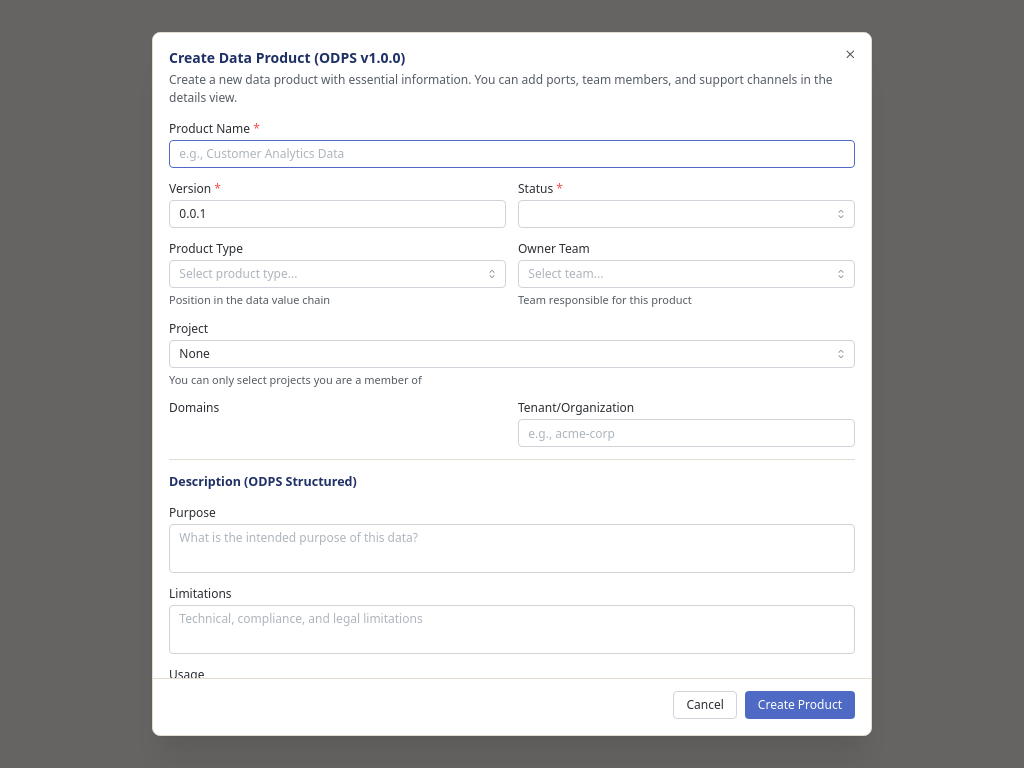
Test: data product create dialog on the kit Dialog › data product create dialog asks before discarding a typed name, on the first close
The width and height of the screenshot is (1024, 768).
In the field labelled "Product Name *": (512, 154) [169, 140, 855, 168], type "Orders"
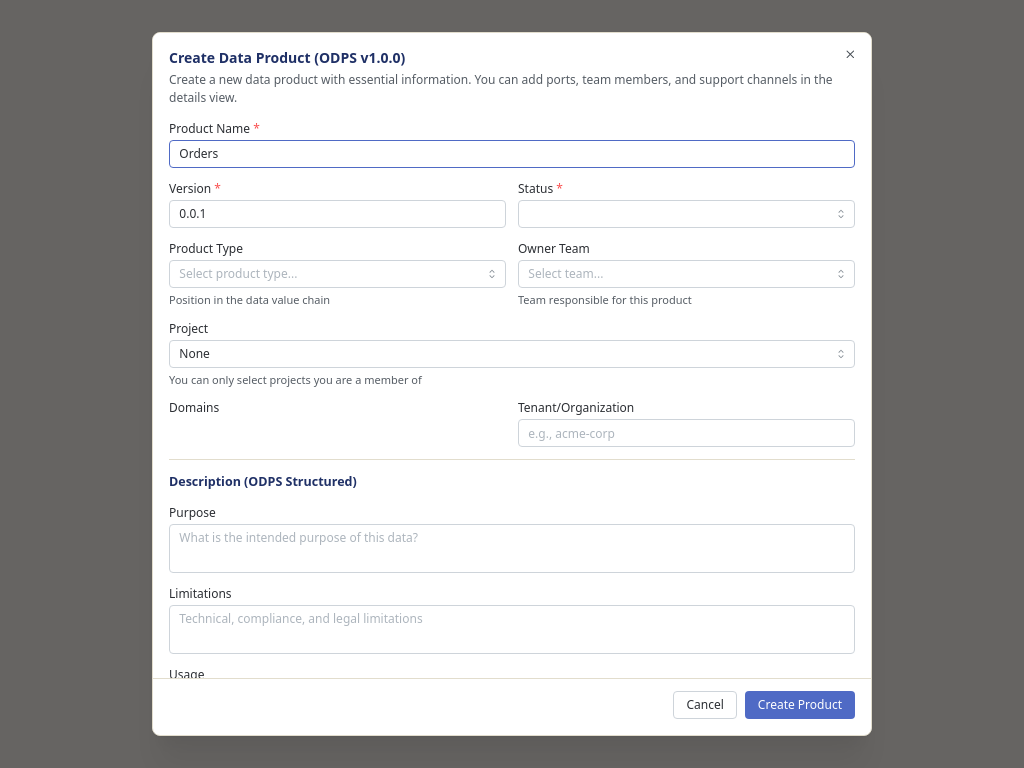
Click the button "Cancel": (705, 705) [674, 691, 737, 719]
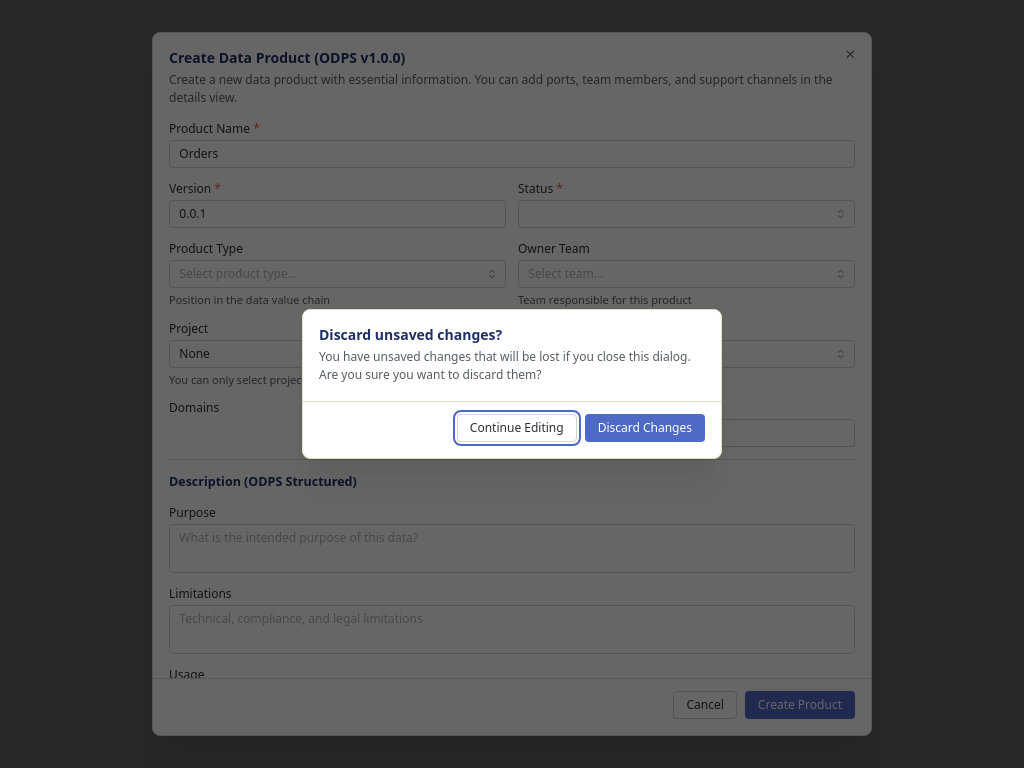
Result: the dialog "Discard unsaved changes?" is shown at [302, 309, 722, 459]
